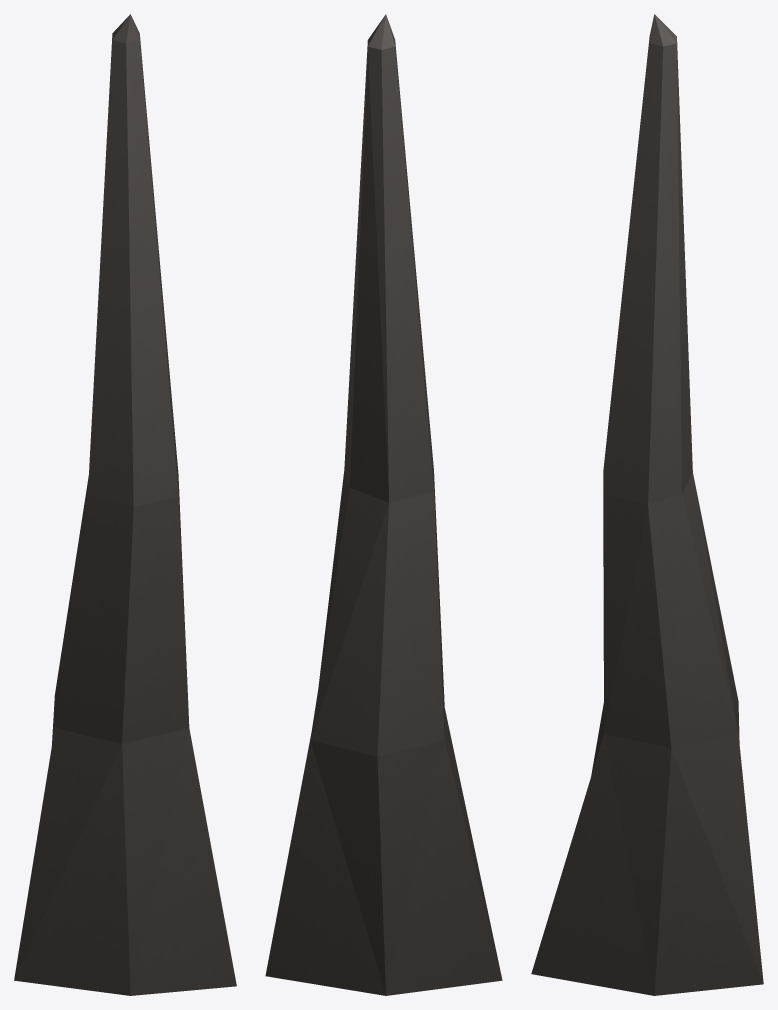
The model's file is Stal_9E.fbx.
The picture shows the model from 3 angles, left to right: view 1: azimuth 30°, elevation 25°; view 2: azimuth 150°, elevation 25°; view 3: azimuth 270°, elevation 25°; orthographic projection.
Visible parts, largest first — view 1: pCone18; view 2: pCone18; view 3: pCone18.
Boxes of the visible parts, bbox=[...] form: pCone18: bbox=[14, 14, 236, 995]; pCone18: bbox=[265, 14, 502, 995]; pCone18: bbox=[531, 14, 763, 995].
Bounding box in the file's own units: 170 × 740 × 166.
1 material, 1 textured.
